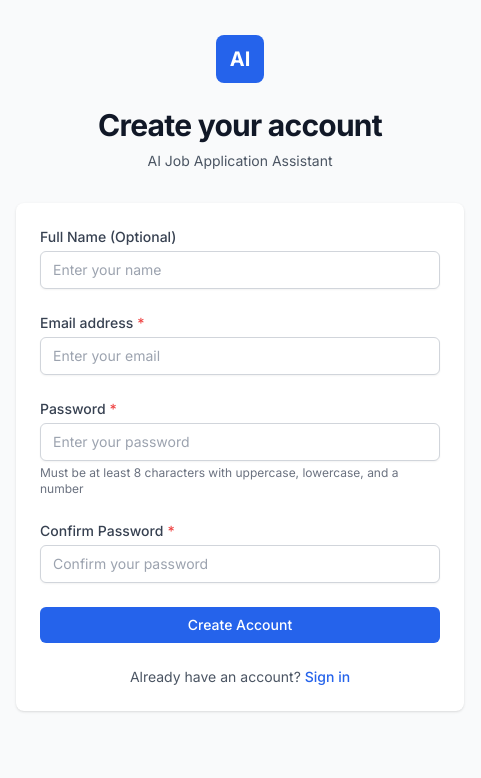
it: Register › displays error message on registration failure
Type "existing@example.com" into the field labelled "Email address*" at [240, 356], box [40,337,440,375]
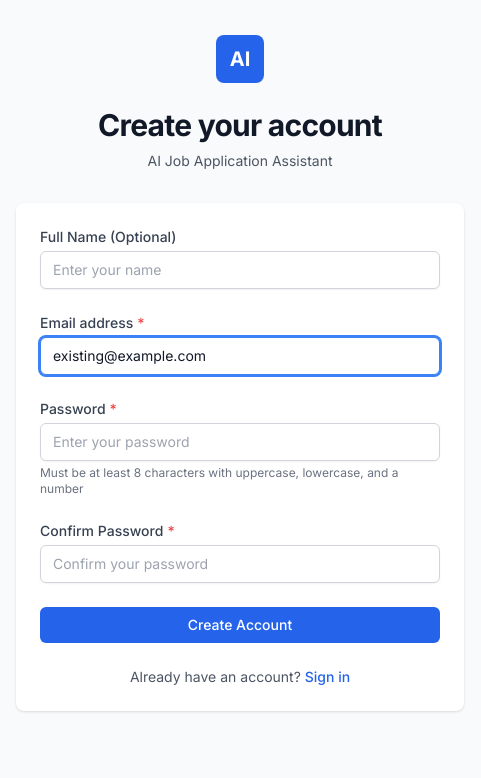
Type "Password123" into the password field labelled "Password*" at [240, 442], box [40,423,440,461]
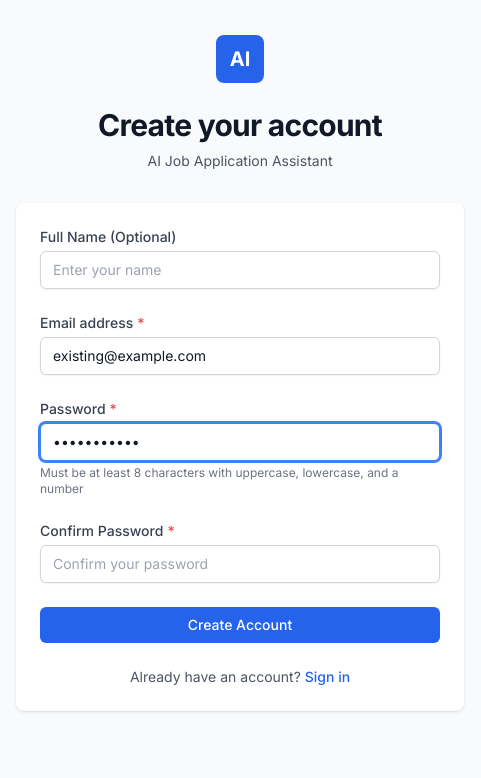
Type "Password123" into the password field labelled "Confirm Password*" at [240, 564], box [40,545,440,583]
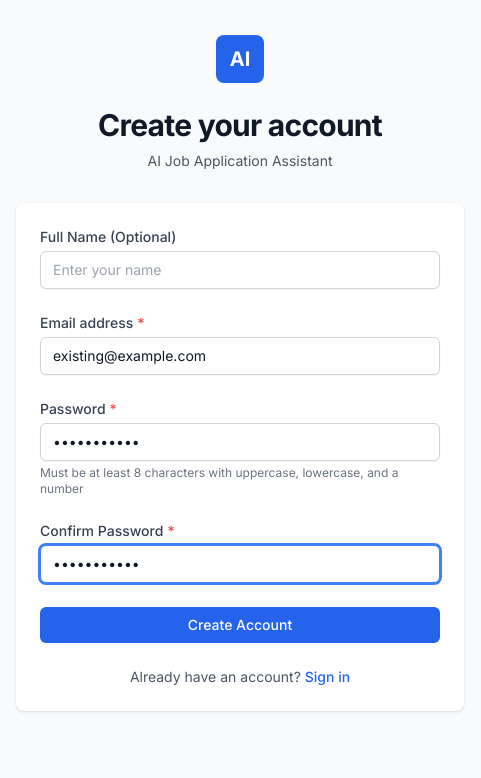
Click the button "Create Account" at [240, 625], box [40,607,440,643]
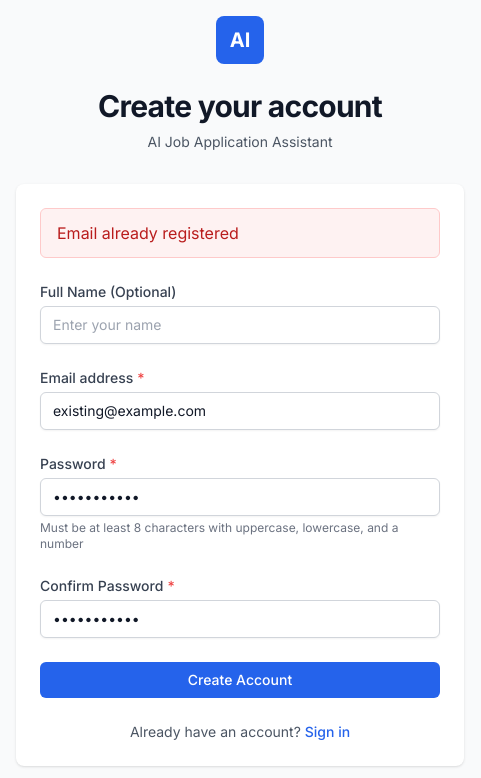
Now the text "Email already registered" is shown, box [40,208,440,258]
